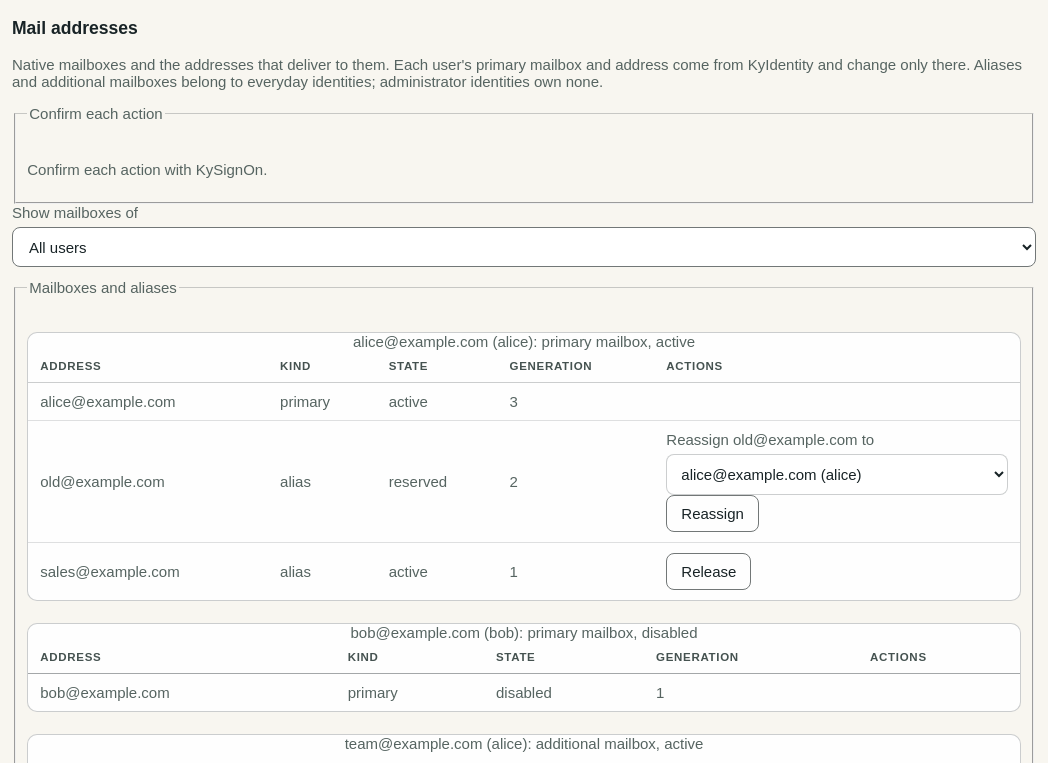
replays an identical request through KySignOn step-up
This screenshot has width=1048, height=763.
Expected: the text "sales@example.com" is shown, [28,543,268,600]
Click the button with aria-label "Release sales@example.com" at (709, 572), box [666,554,751,590]
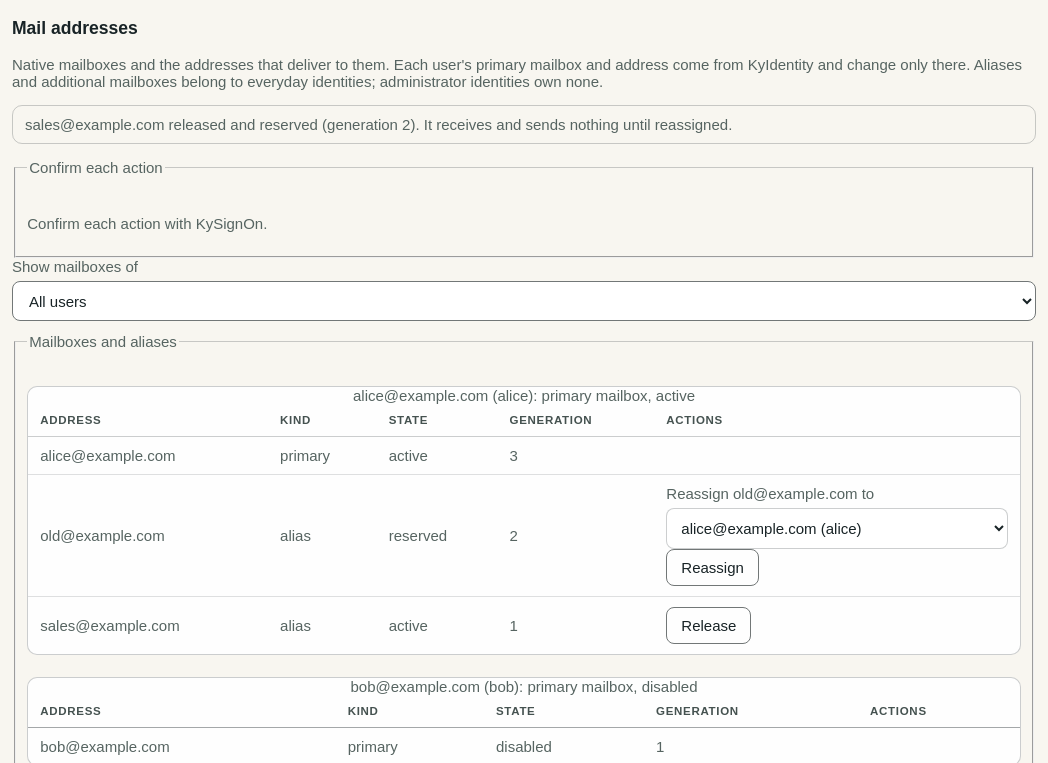
Expected: the text "released and reserved" is shown, [25,116,732,133]
